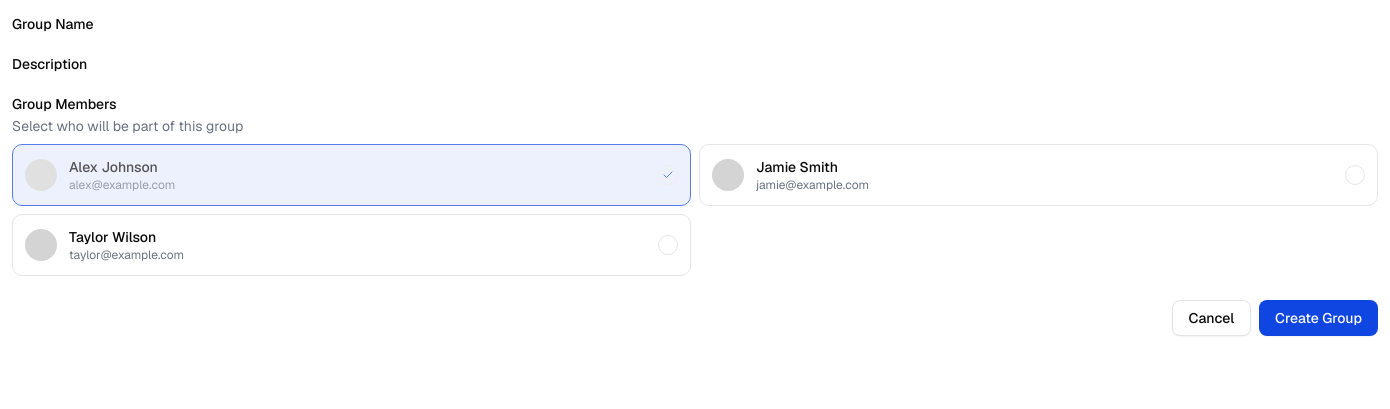
GroupForm › validates form before submitting
Submit without filling out required fields
What coordinates should you click on to do the following:
click the button "Create Group"
I would click on:
 (1319, 318)
Its box is [1259, 300, 1378, 336].
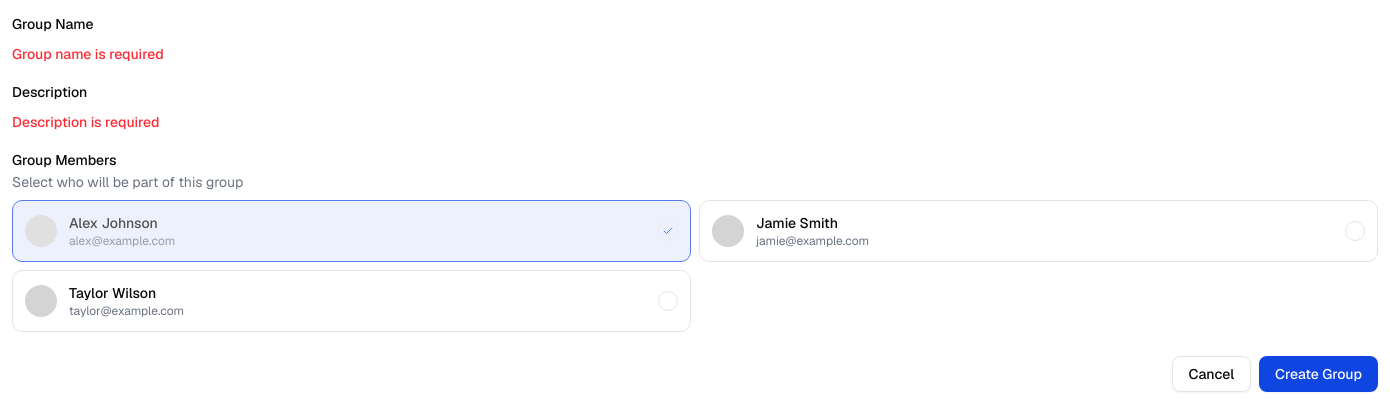
Check: the text "Group name is required" is shown, box [12, 45, 164, 63]
